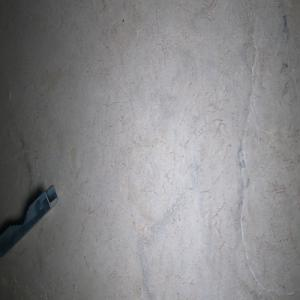ClampPart: (0, 183, 59, 258)
